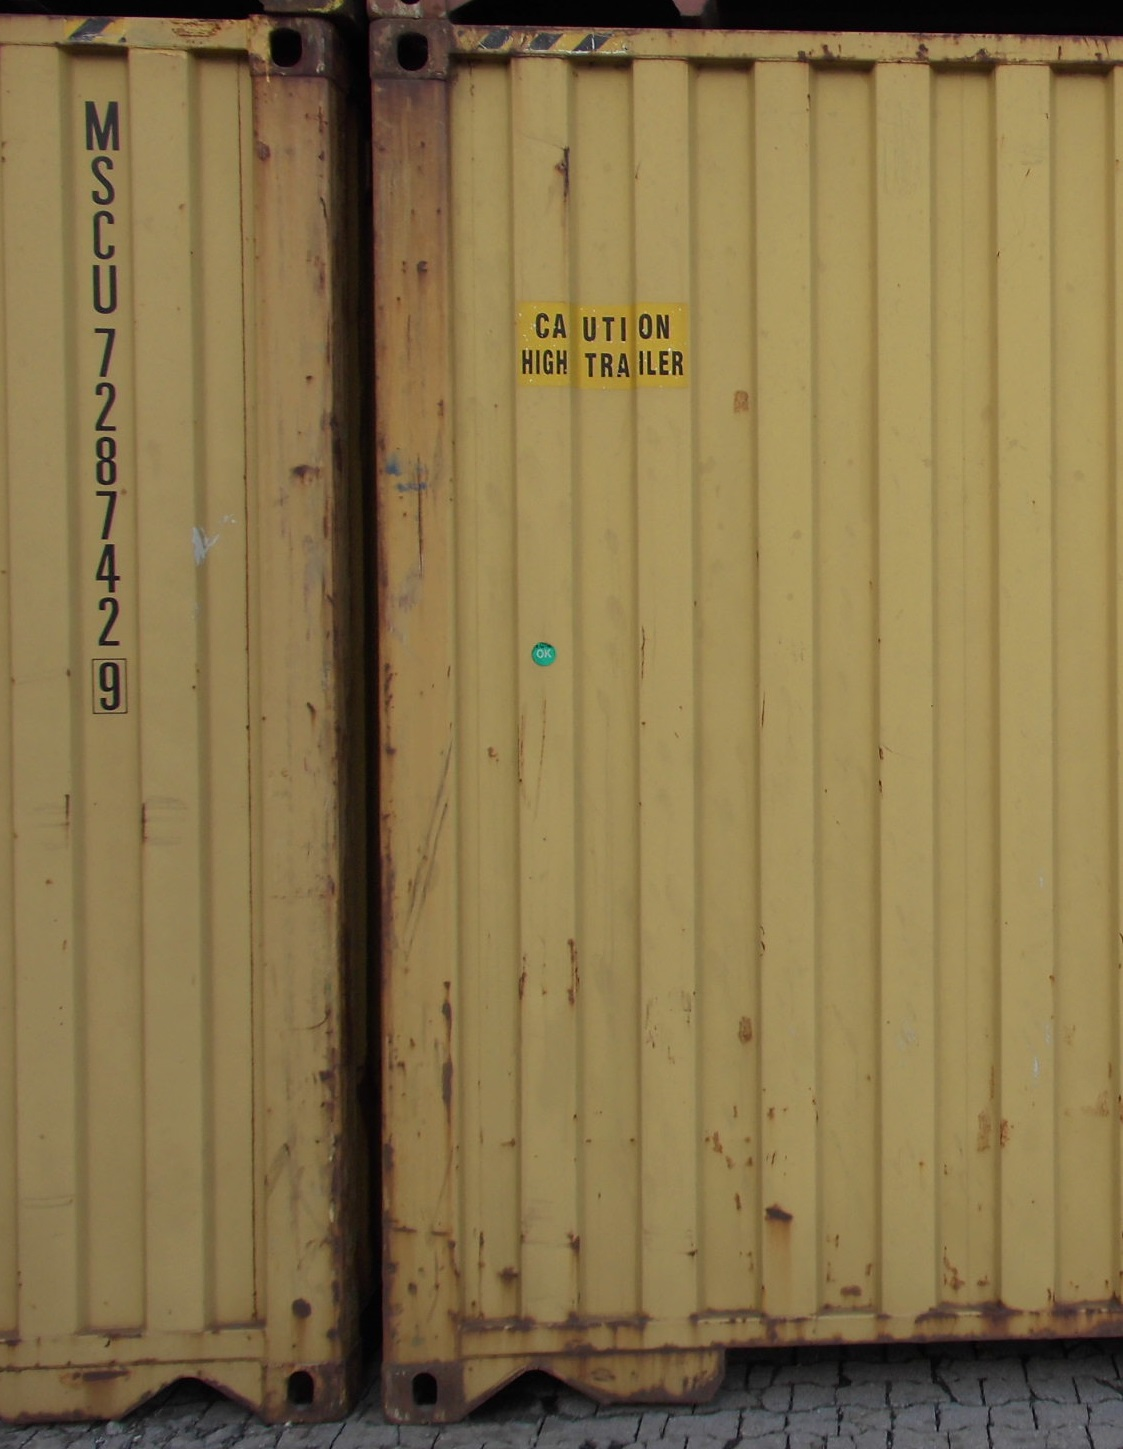container_no_door: (383, 31, 1112, 1425), (1, 6, 352, 1423)
